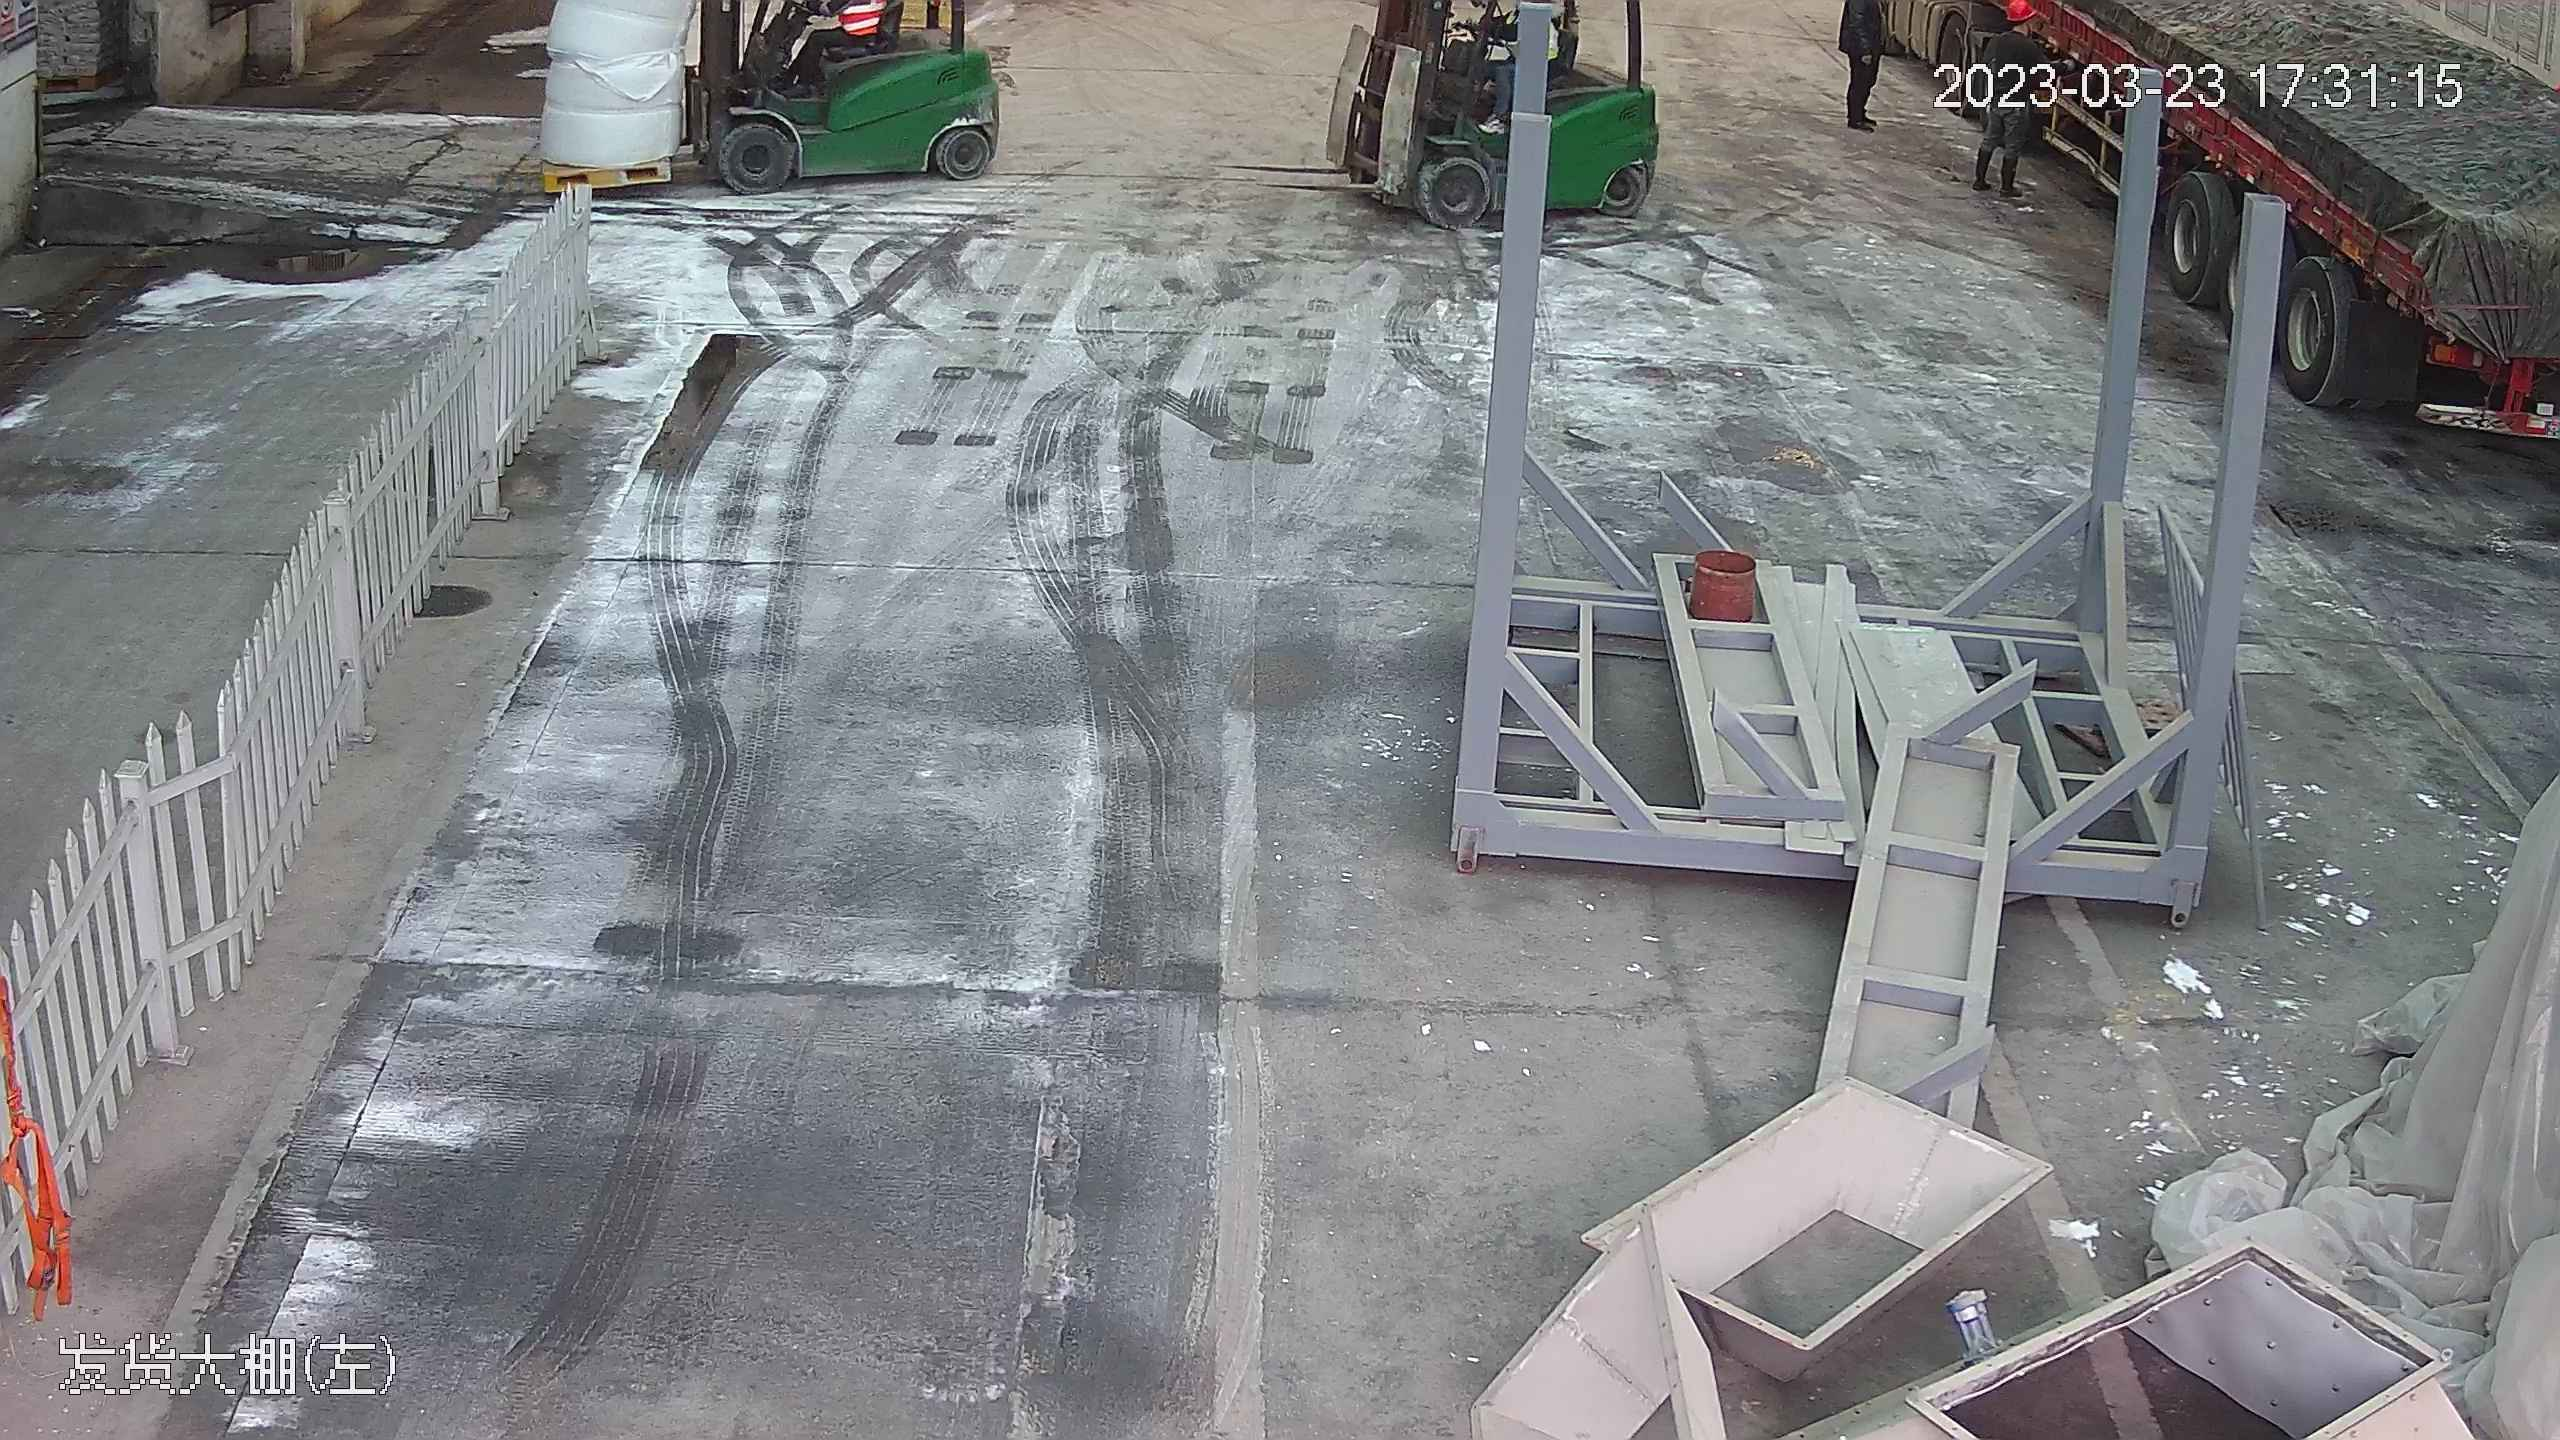head: (1989, 3, 2041, 71)
helmet: (2005, 1, 2042, 20)
people: (1967, 1, 2042, 204), (1838, 8, 1882, 129)
